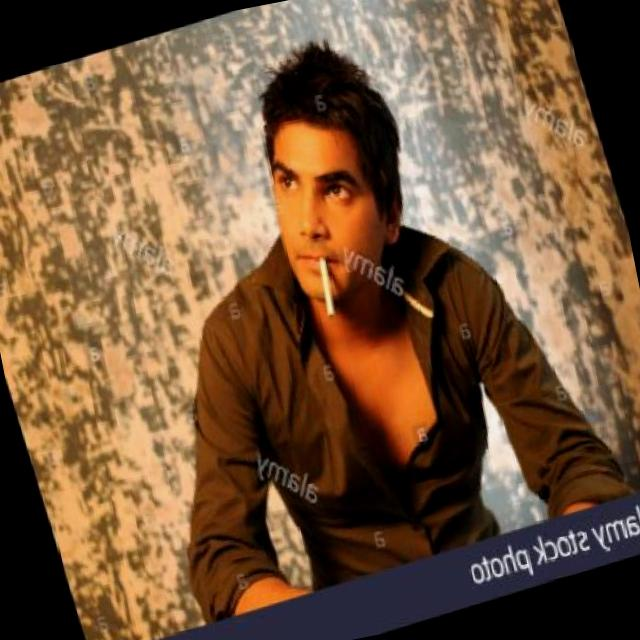cigarette: (307, 256, 344, 326)
